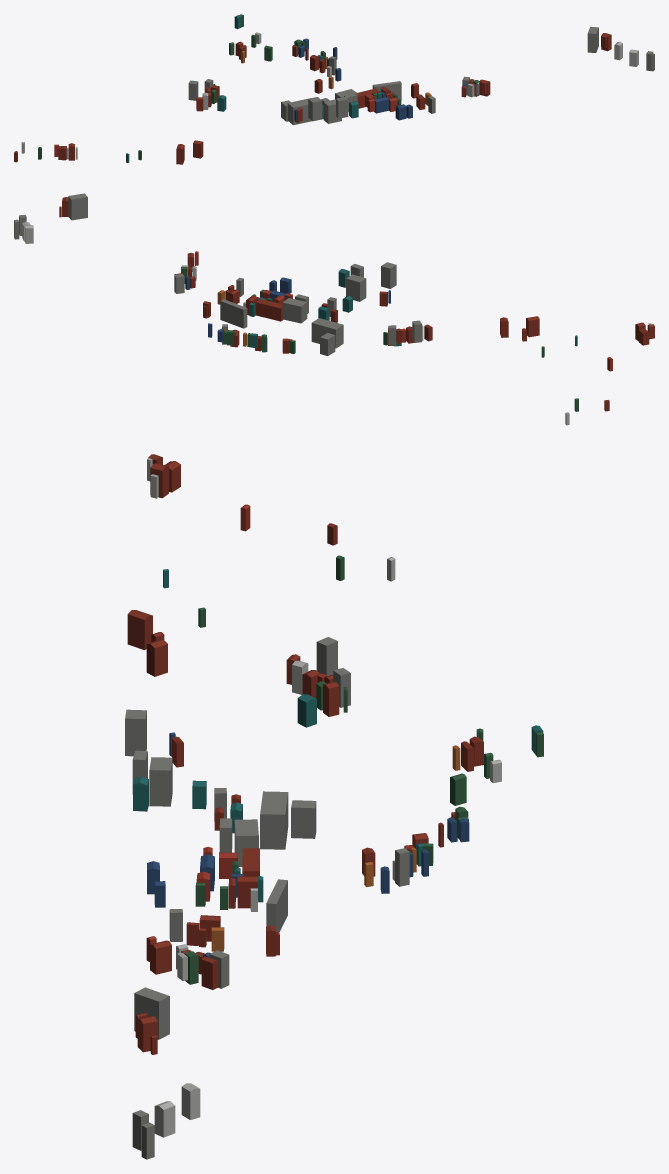
The model's file is near-15-27369-14871.b7d53947.glb.
3 views of the same model, one above another, from view 1: azimuth 30°, elevation 25°; view 2: azimuth 150°, elevation 25°; view 3: azimuth 270°, elevation 25° (orthographic). The views are drawn at different scales.
Bounding box in the file's own units: 945 × 97.98 × 288.
